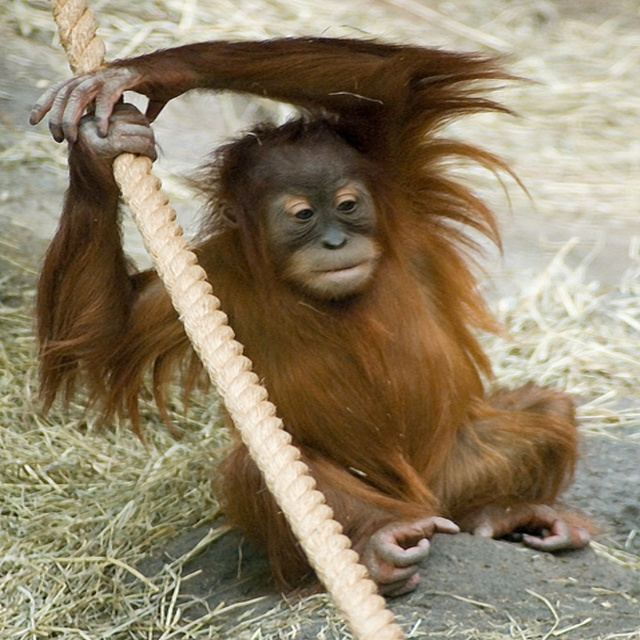Monkey: (29, 27, 592, 598)
